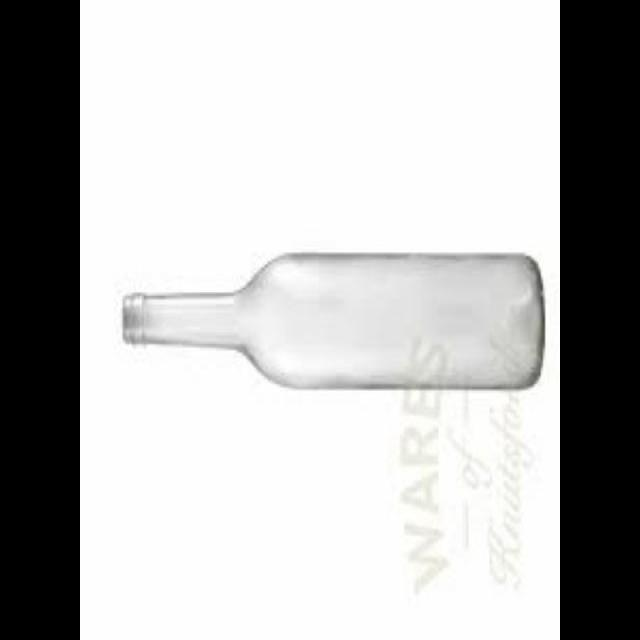Glass: (120, 249, 548, 396)
